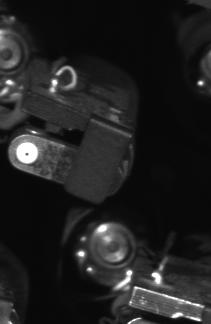fiber: (14, 139, 42, 167)
